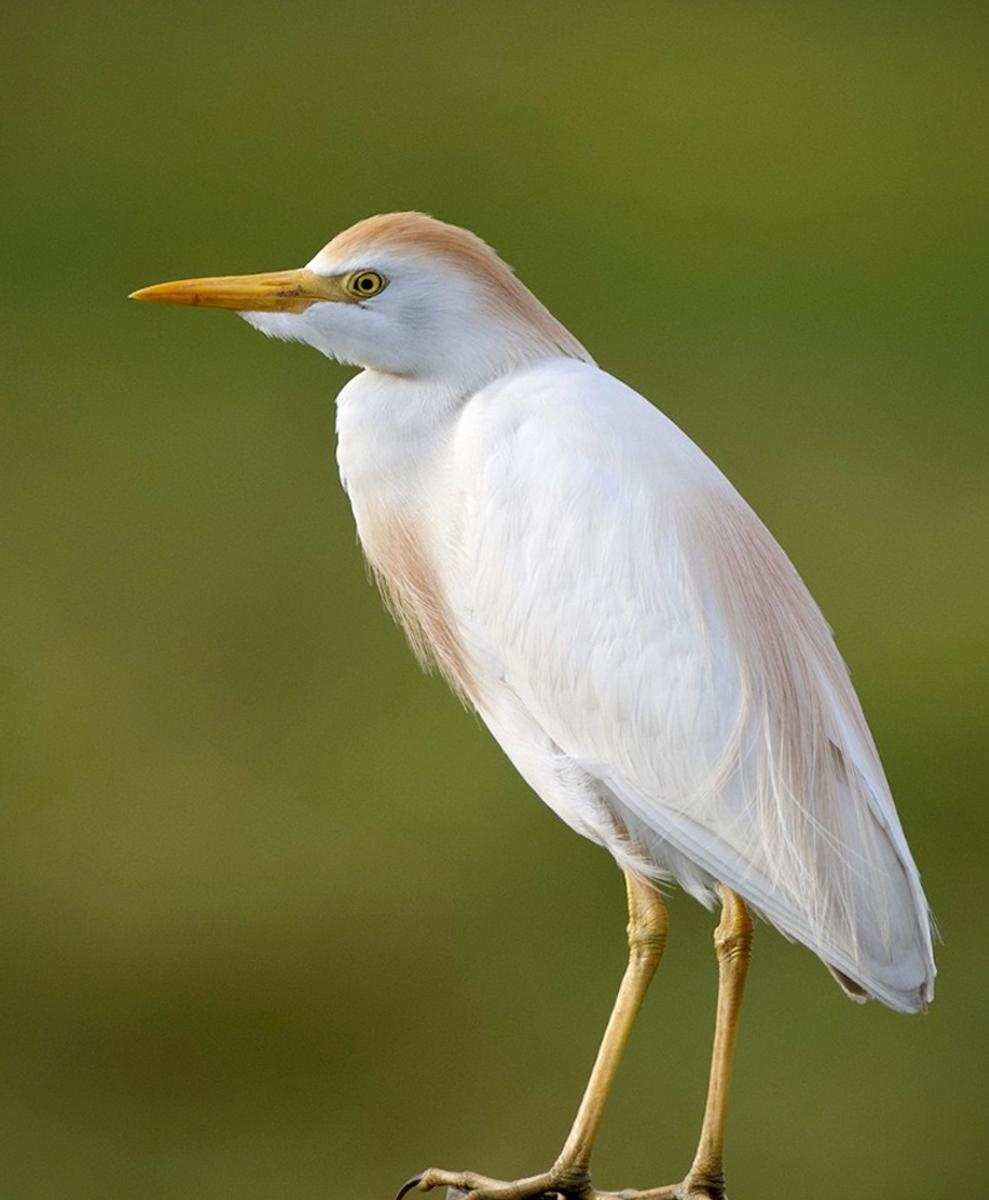egret: (104, 206, 930, 1200)
